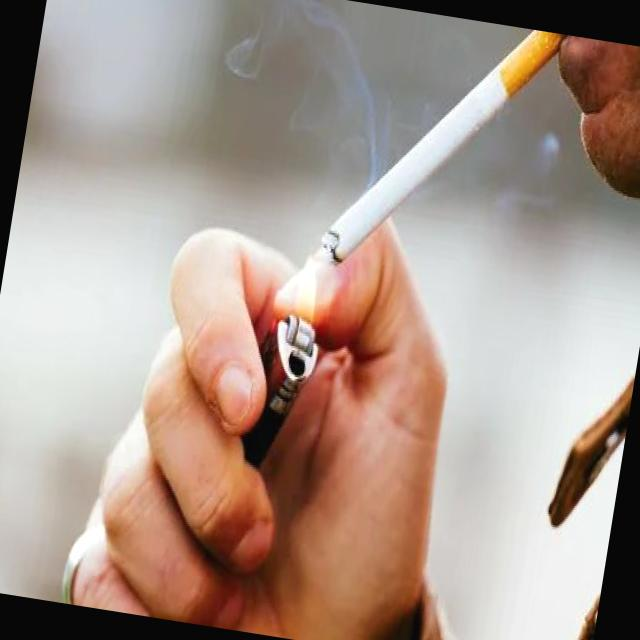smoke: (314, 2, 565, 306)
